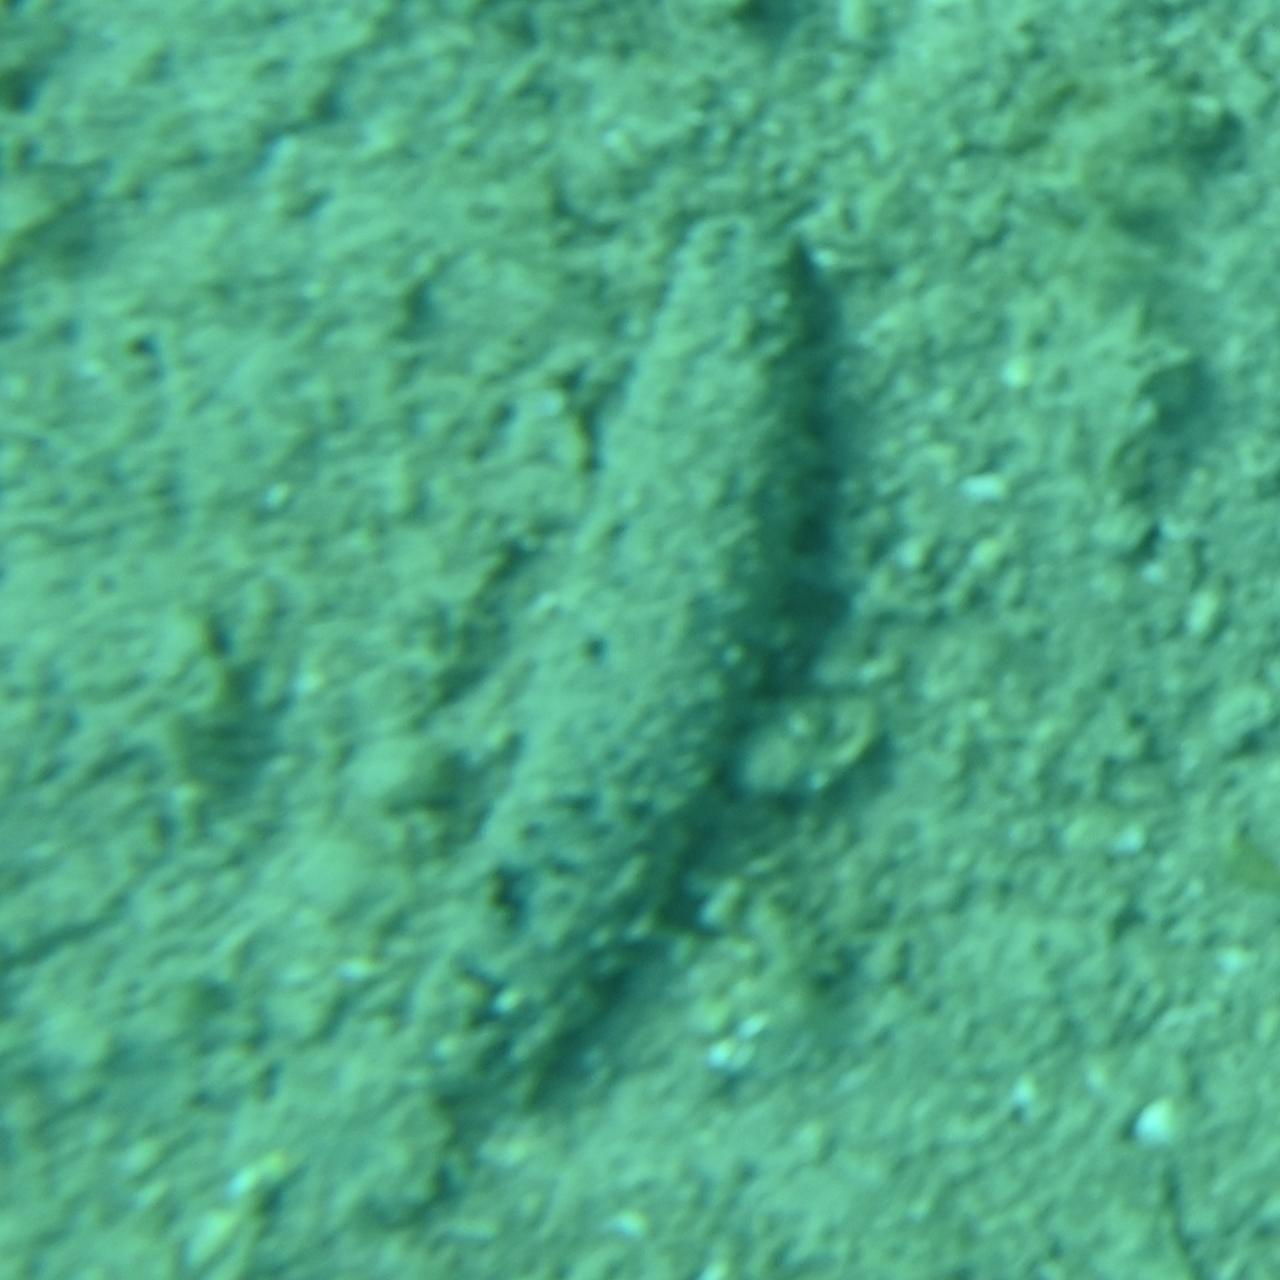Holothuria tubulosa: (416, 197, 864, 1083)
